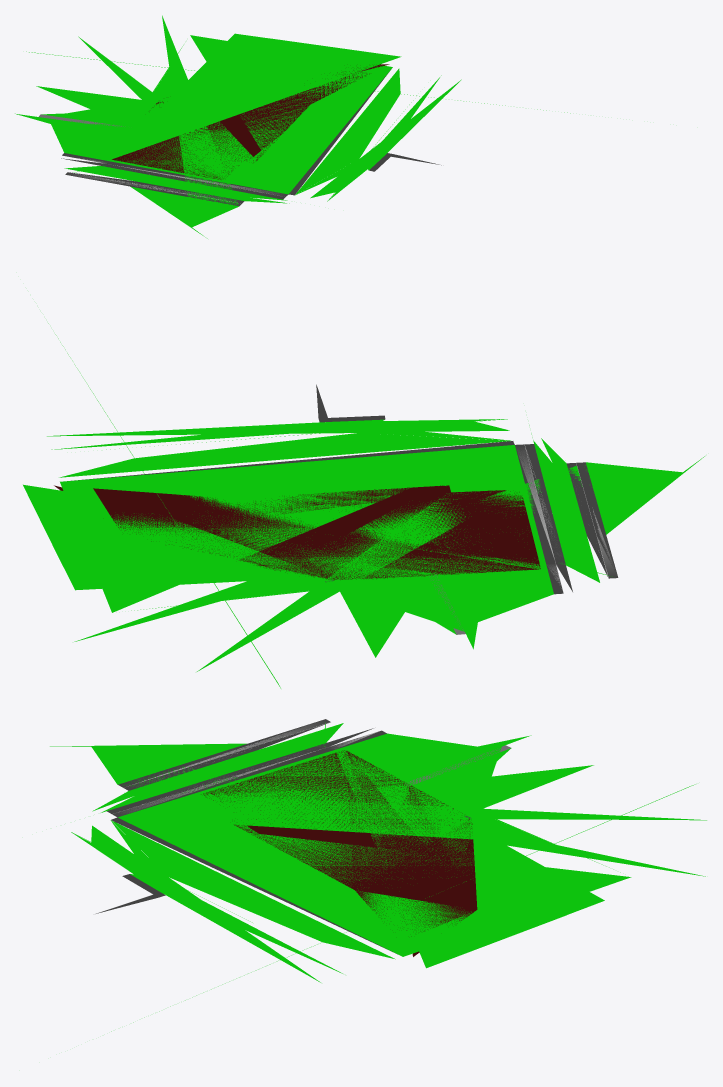
3 views of the same model, one above another, from view 1: azimuth 30°, elevation 25°; view 2: azimuth 150°, elevation 25°; view 3: azimuth 270°, elevation 25° (orthographic). The views are drawn at different scales.
Bounding box in the file's own units: 325 × 0.001 × 270.
